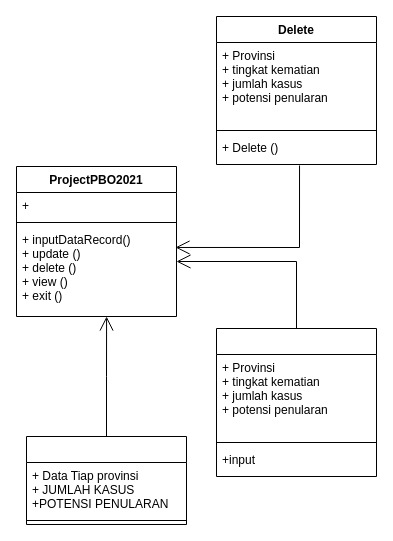
This 393x541 diagram has some shape labels left out. The shapes that lost their labels are listed below. From the top down, each one's box as (x1, y1, x2, y2) in pixels, then its label:
(216, 328, 376, 476): UpdateDataRecord
(26, 436, 186, 524): InputDataRecord
